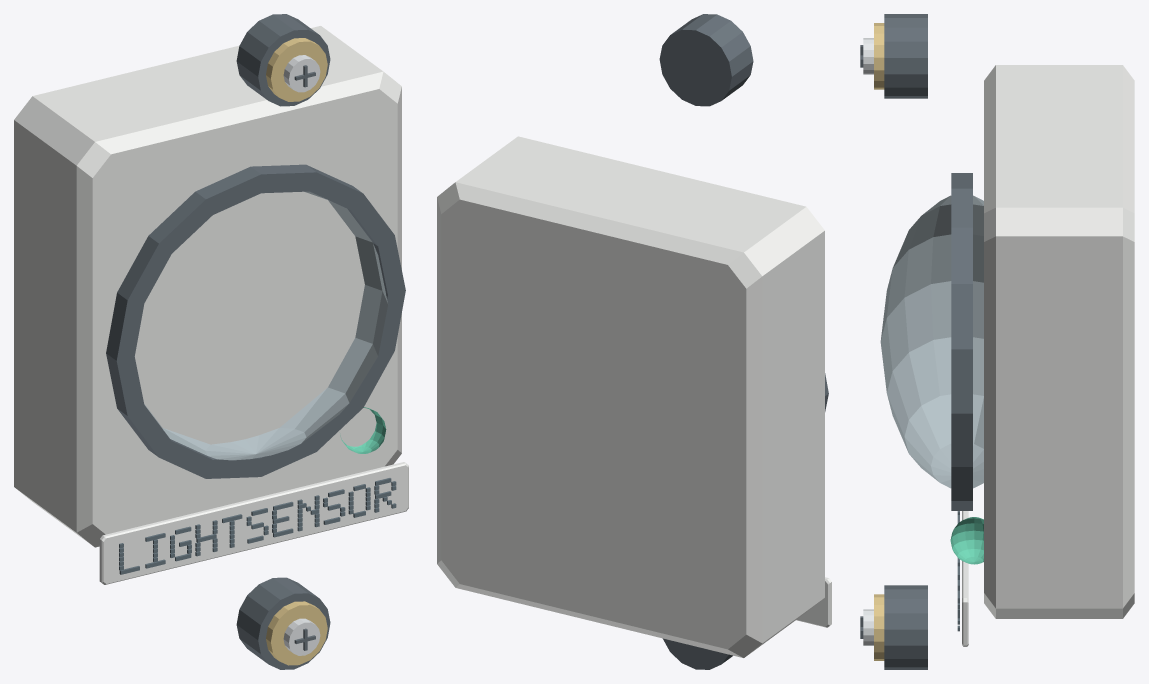
The model's file is lightSensor.glb.
The picture shows the model from 3 angles, left to right: view 1: azimuth 30°, elevation 25°; view 2: azimuth 150°, elevation 25°; view 3: azimuth 270°, elevation 25°; orthographic projection.
Parts seen in each view (by area): view 1: lightSensor-preview; view 2: lightSensor-preview; view 3: lightSensor-preview.
Part boxes in pixels (bbox=[...]): lightSensor-preview: bbox=[14, 14, 408, 669]; lightSensor-preview: bbox=[437, 14, 831, 669]; lightSensor-preview: bbox=[860, 14, 1134, 669].
Size of the model in its own units: 1.41 by 2.65 by 1.02.
